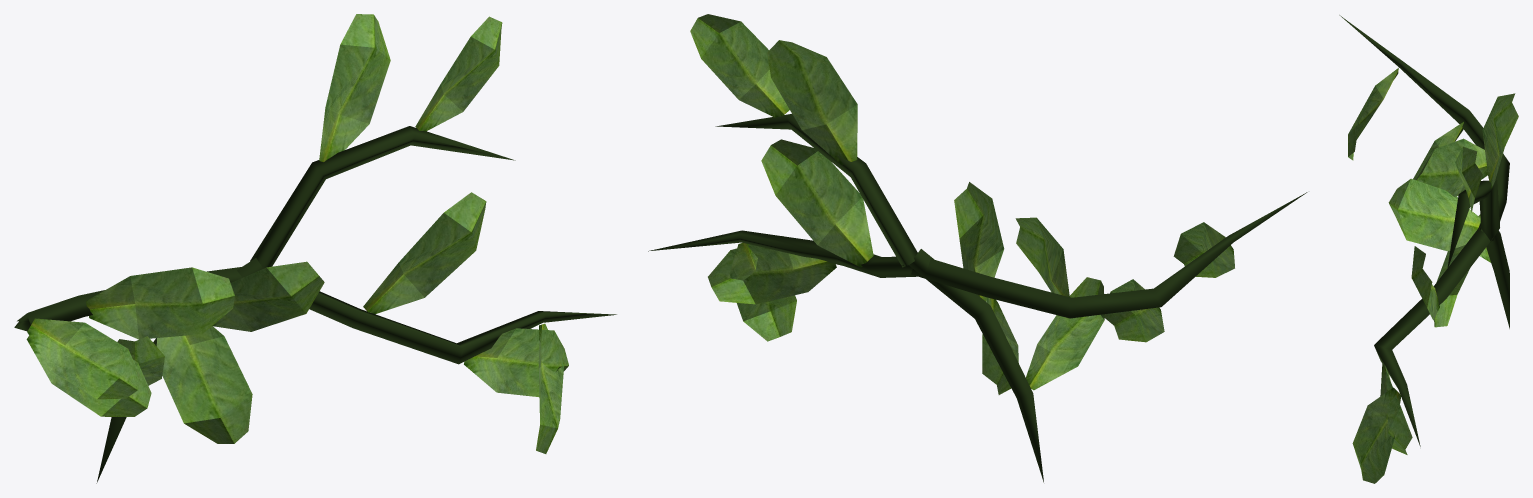
Rendered from polygonum_05.obj.
The picture shows the model from 3 angles, left to right: view 1: azimuth 30°, elevation 25°; view 2: azimuth 150°, elevation 25°; view 3: azimuth 270°, elevation 25°; orthographic projection. The views are drawn at different scales.
Parts seen in each view (by area): view 1: polygonum.006; view 2: polygonum.006; view 3: polygonum.006.
Boxes of the visible parts, x1=… form: polygonum.006: x1=14, y1=14, x2=616, y2=483; polygonum.006: x1=648, y1=14, x2=1307, y2=482; polygonum.006: x1=1339, y1=15, x2=1518, y2=483.
Bounding box in the file's own units: 0.2358 × 0.1398 × 0.066.
